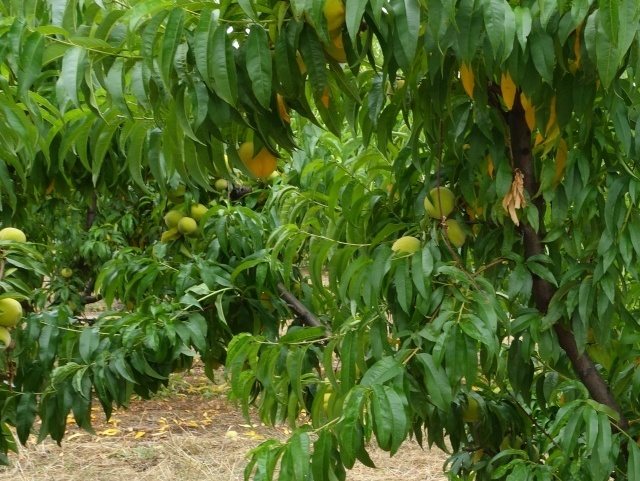peach: (232, 139, 281, 180), (422, 184, 458, 226), (303, 1, 348, 33), (438, 214, 472, 251), (388, 232, 424, 262), (1, 224, 31, 257), (1, 294, 27, 329), (158, 206, 185, 232), (185, 200, 210, 222), (173, 217, 199, 238), (1, 321, 15, 353)
